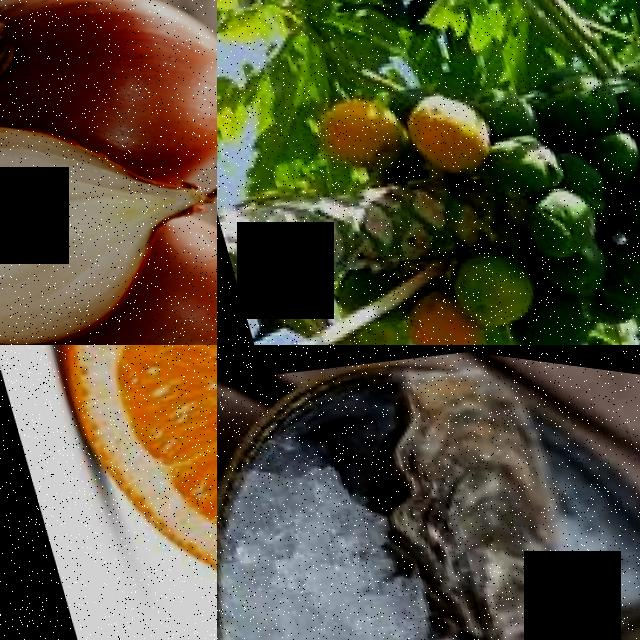onion: (0, 74, 168, 345), (0, 0, 217, 175), (112, 183, 217, 345)
orange: (0, 345, 217, 640)
oysters: (331, 345, 599, 640)
pawpaw: (394, 67, 500, 175), (303, 80, 413, 179), (442, 232, 536, 329), (508, 169, 605, 262), (393, 272, 481, 345), (610, 168, 640, 262)
